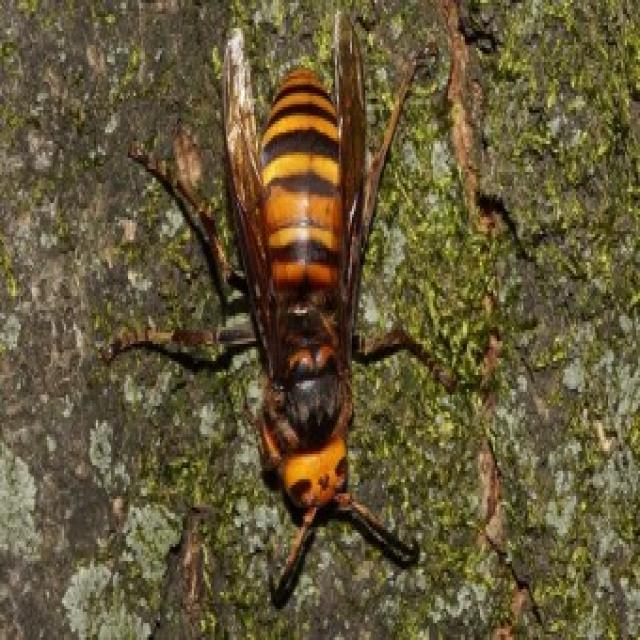Wasp: (142, 18, 474, 572)
